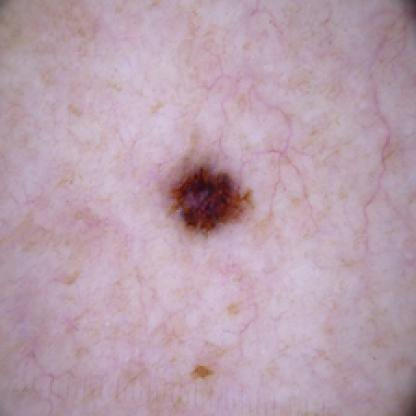Skin_Cancer-Malignant: (166, 162, 255, 239)
